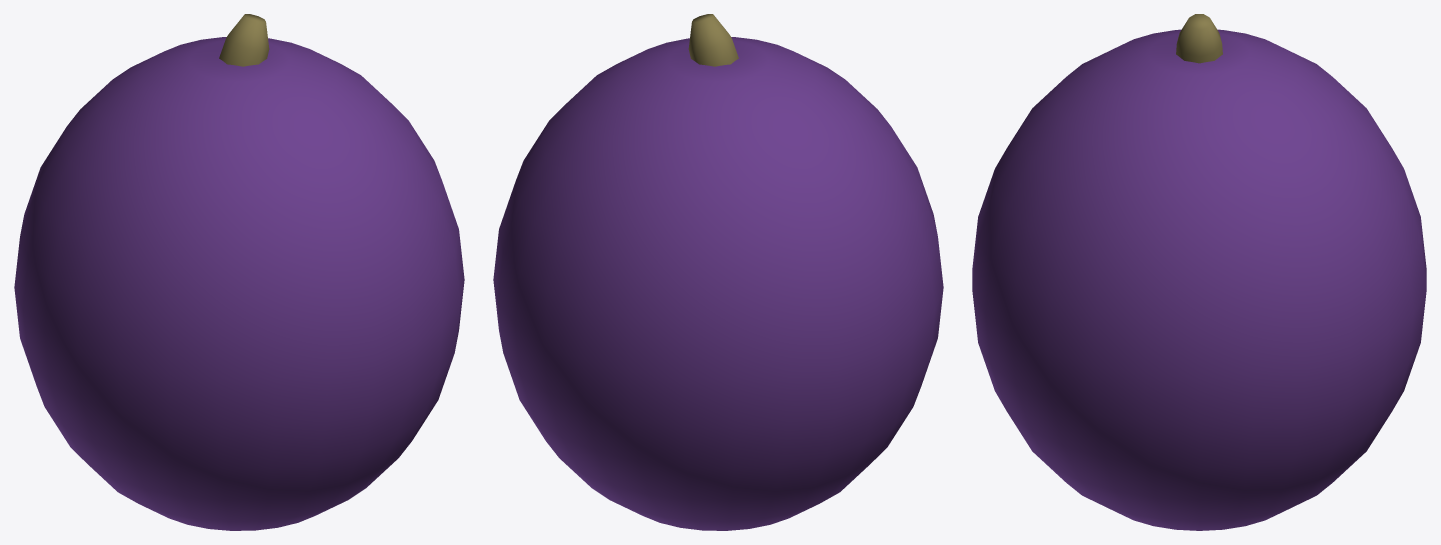
The model's file is grape.glb.
3 views of the same model, side by side, from view 1: azimuth 30°, elevation 25°; view 2: azimuth 150°, elevation 25°; view 3: azimuth 270°, elevation 25° (orthographic).
Visible parts, largest first — view 1: grape; view 2: grape; view 3: grape.
Boxes of the visible parts, bbox=[...] form: grape: bbox=[14, 14, 464, 530]; grape: bbox=[493, 14, 943, 530]; grape: bbox=[972, 14, 1426, 530].
Size of the model in its own units: 2 by 2.42 by 1.99.
